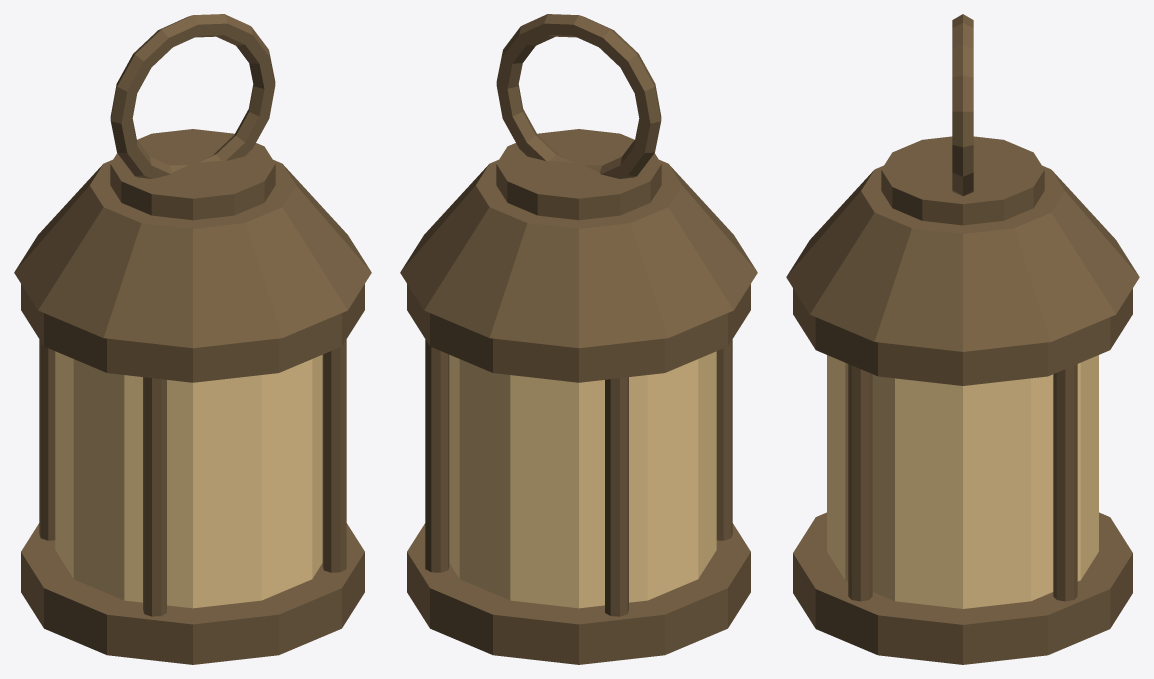
Rendered from moving-lantern.glb.
3 renders of one model, left to right at view 1: azimuth 30°, elevation 25°; view 2: azimuth 150°, elevation 25°; view 3: azimuth 270°, elevation 25°, orthographic.
Parts seen in each view (by area): view 1: Warm frosted chamber, Tapered brass roof, Bottom rim, Top rim, Roof cap, Carry ring, Corner rail 2, Corner rail 3, Corner rail 1; view 2: Warm frosted chamber, Tapered brass roof, Bottom rim, Top rim, Roof cap, Carry ring, Corner rail 1, Corner rail 0, Corner rail 2; view 3: Warm frosted chamber, Tapered brass roof, Bottom rim, Top rim, Roof cap, Corner rail 0, Corner rail 3, Carry ring.
Boxes of the visible parts, x1,y1,x2,y2 form: Warm frosted chamber: (55,351,322,608); Tapered brass roof: (14,159,371,348); Bottom rim: (21,523,364,664); Top rim: (21,284,364,382); Roof cap: (110,129,275,220); Carry ring: (110,14,275,178); Corner rail 2: (143,377,166,616); Corner rail 3: (322,339,346,572); Corner rail 1: (39,339,55,540); Warm frosted chamber: (449,351,716,608); Tapered brass roof: (400,159,757,348); Bottom rim: (407,523,750,664); Top rim: (407,284,750,382); Roof cap: (496,129,661,220); Carry ring: (496,14,661,178); Corner rail 1: (605,377,628,616); Corner rail 0: (425,339,449,572); Corner rail 2: (716,339,732,540); Warm frosted chamber: (827,355,1098,608); Tapered brass roof: (786,165,1139,351); Bottom rim: (793,512,1132,664); Top rim: (793,288,1132,385); Roof cap: (881,136,1044,225); Corner rail 0: (1053,364,1077,601); Corner rail 3: (848,364,872,601); Carry ring: (952,14,973,196).
Size of the model in its own units: 0.52 by 0.9255 by 0.52.
